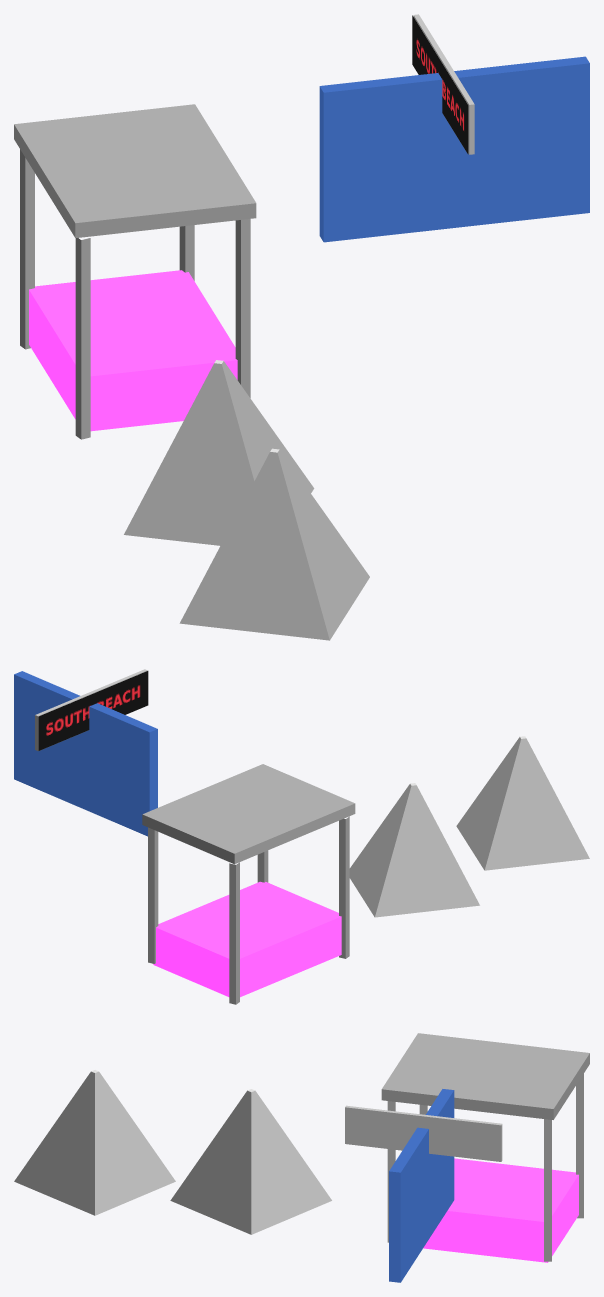
File: sb_djbooth.glb
The picture shows the model from 3 angles, top to bottom: view 1: azimuth 30°, elevation 25°; view 2: azimuth 150°, elevation 25°; view 3: azimuth 270°, elevation 25°; orthographic projection. The views are drawn at different scales.
Parts seen in each view (by area): view 1: sb_djbooth_lod0; view 2: sb_djbooth_lod0; view 3: sb_djbooth_lod0.
Boxes of the visible parts, left/top/right/bottom form: sb_djbooth_lod0: left=14, top=14, right=589, bottom=640; sb_djbooth_lod0: left=14, top=669, right=589, bottom=1004; sb_djbooth_lod0: left=14, top=1033, right=589, bottom=1282.
Size of what is drawn, in the model's own units: 12.88 by 5.79 by 14.22.
Materials: 8 (1 with a texture image).
